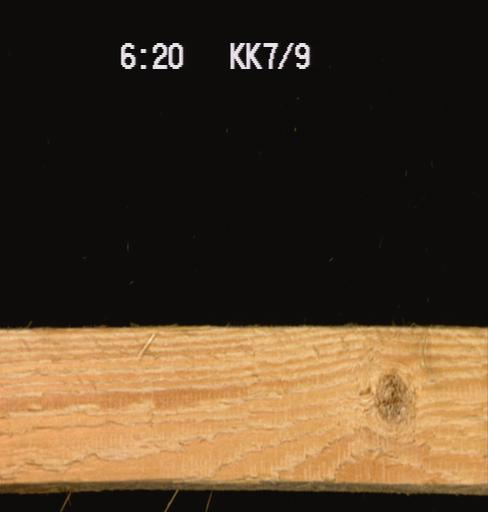sound_knot: (367, 362, 420, 431)
